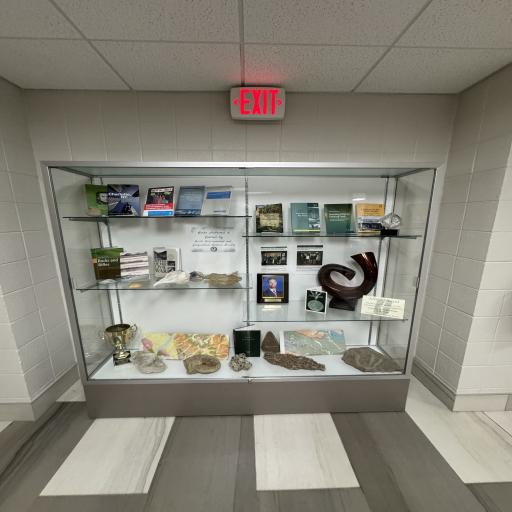exit sign: (221, 83, 303, 132)
stuff: (37, 154, 448, 416)
